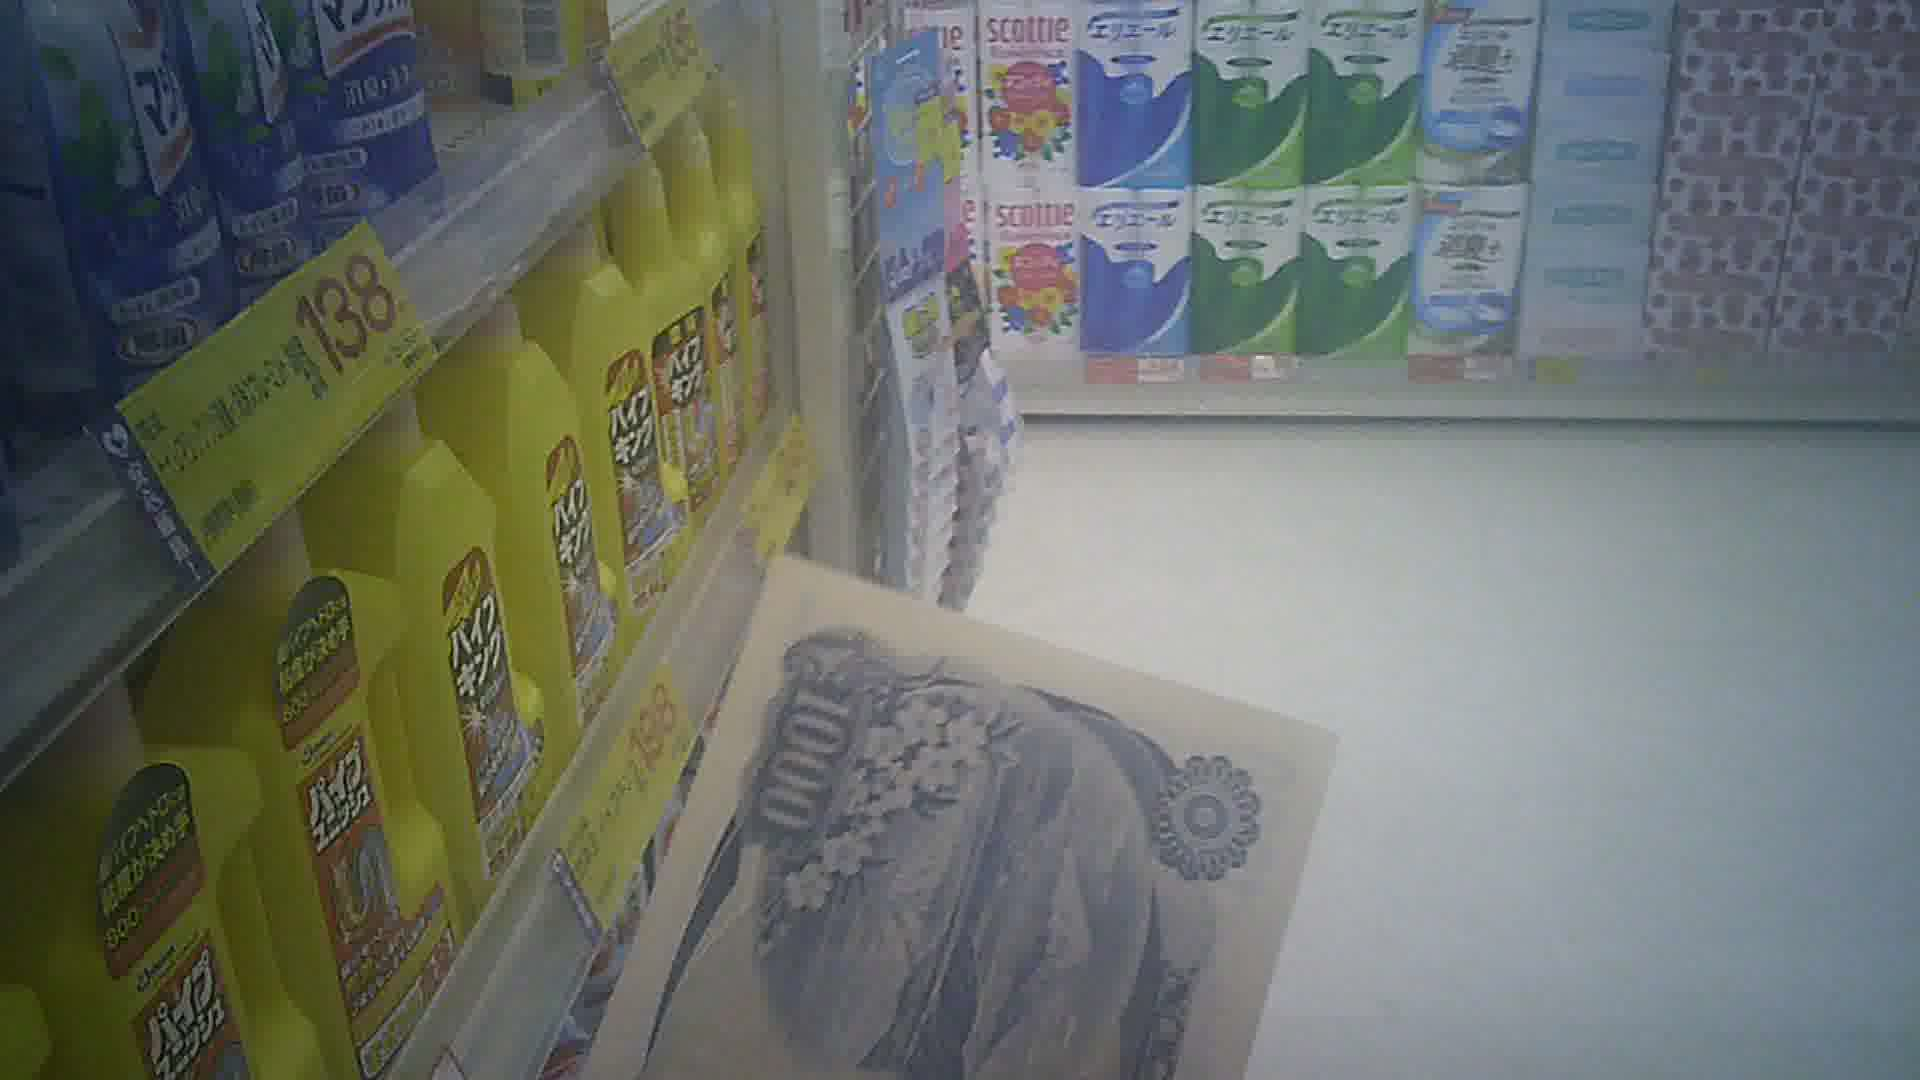1,000 Yen: (589, 545, 1344, 1079)
